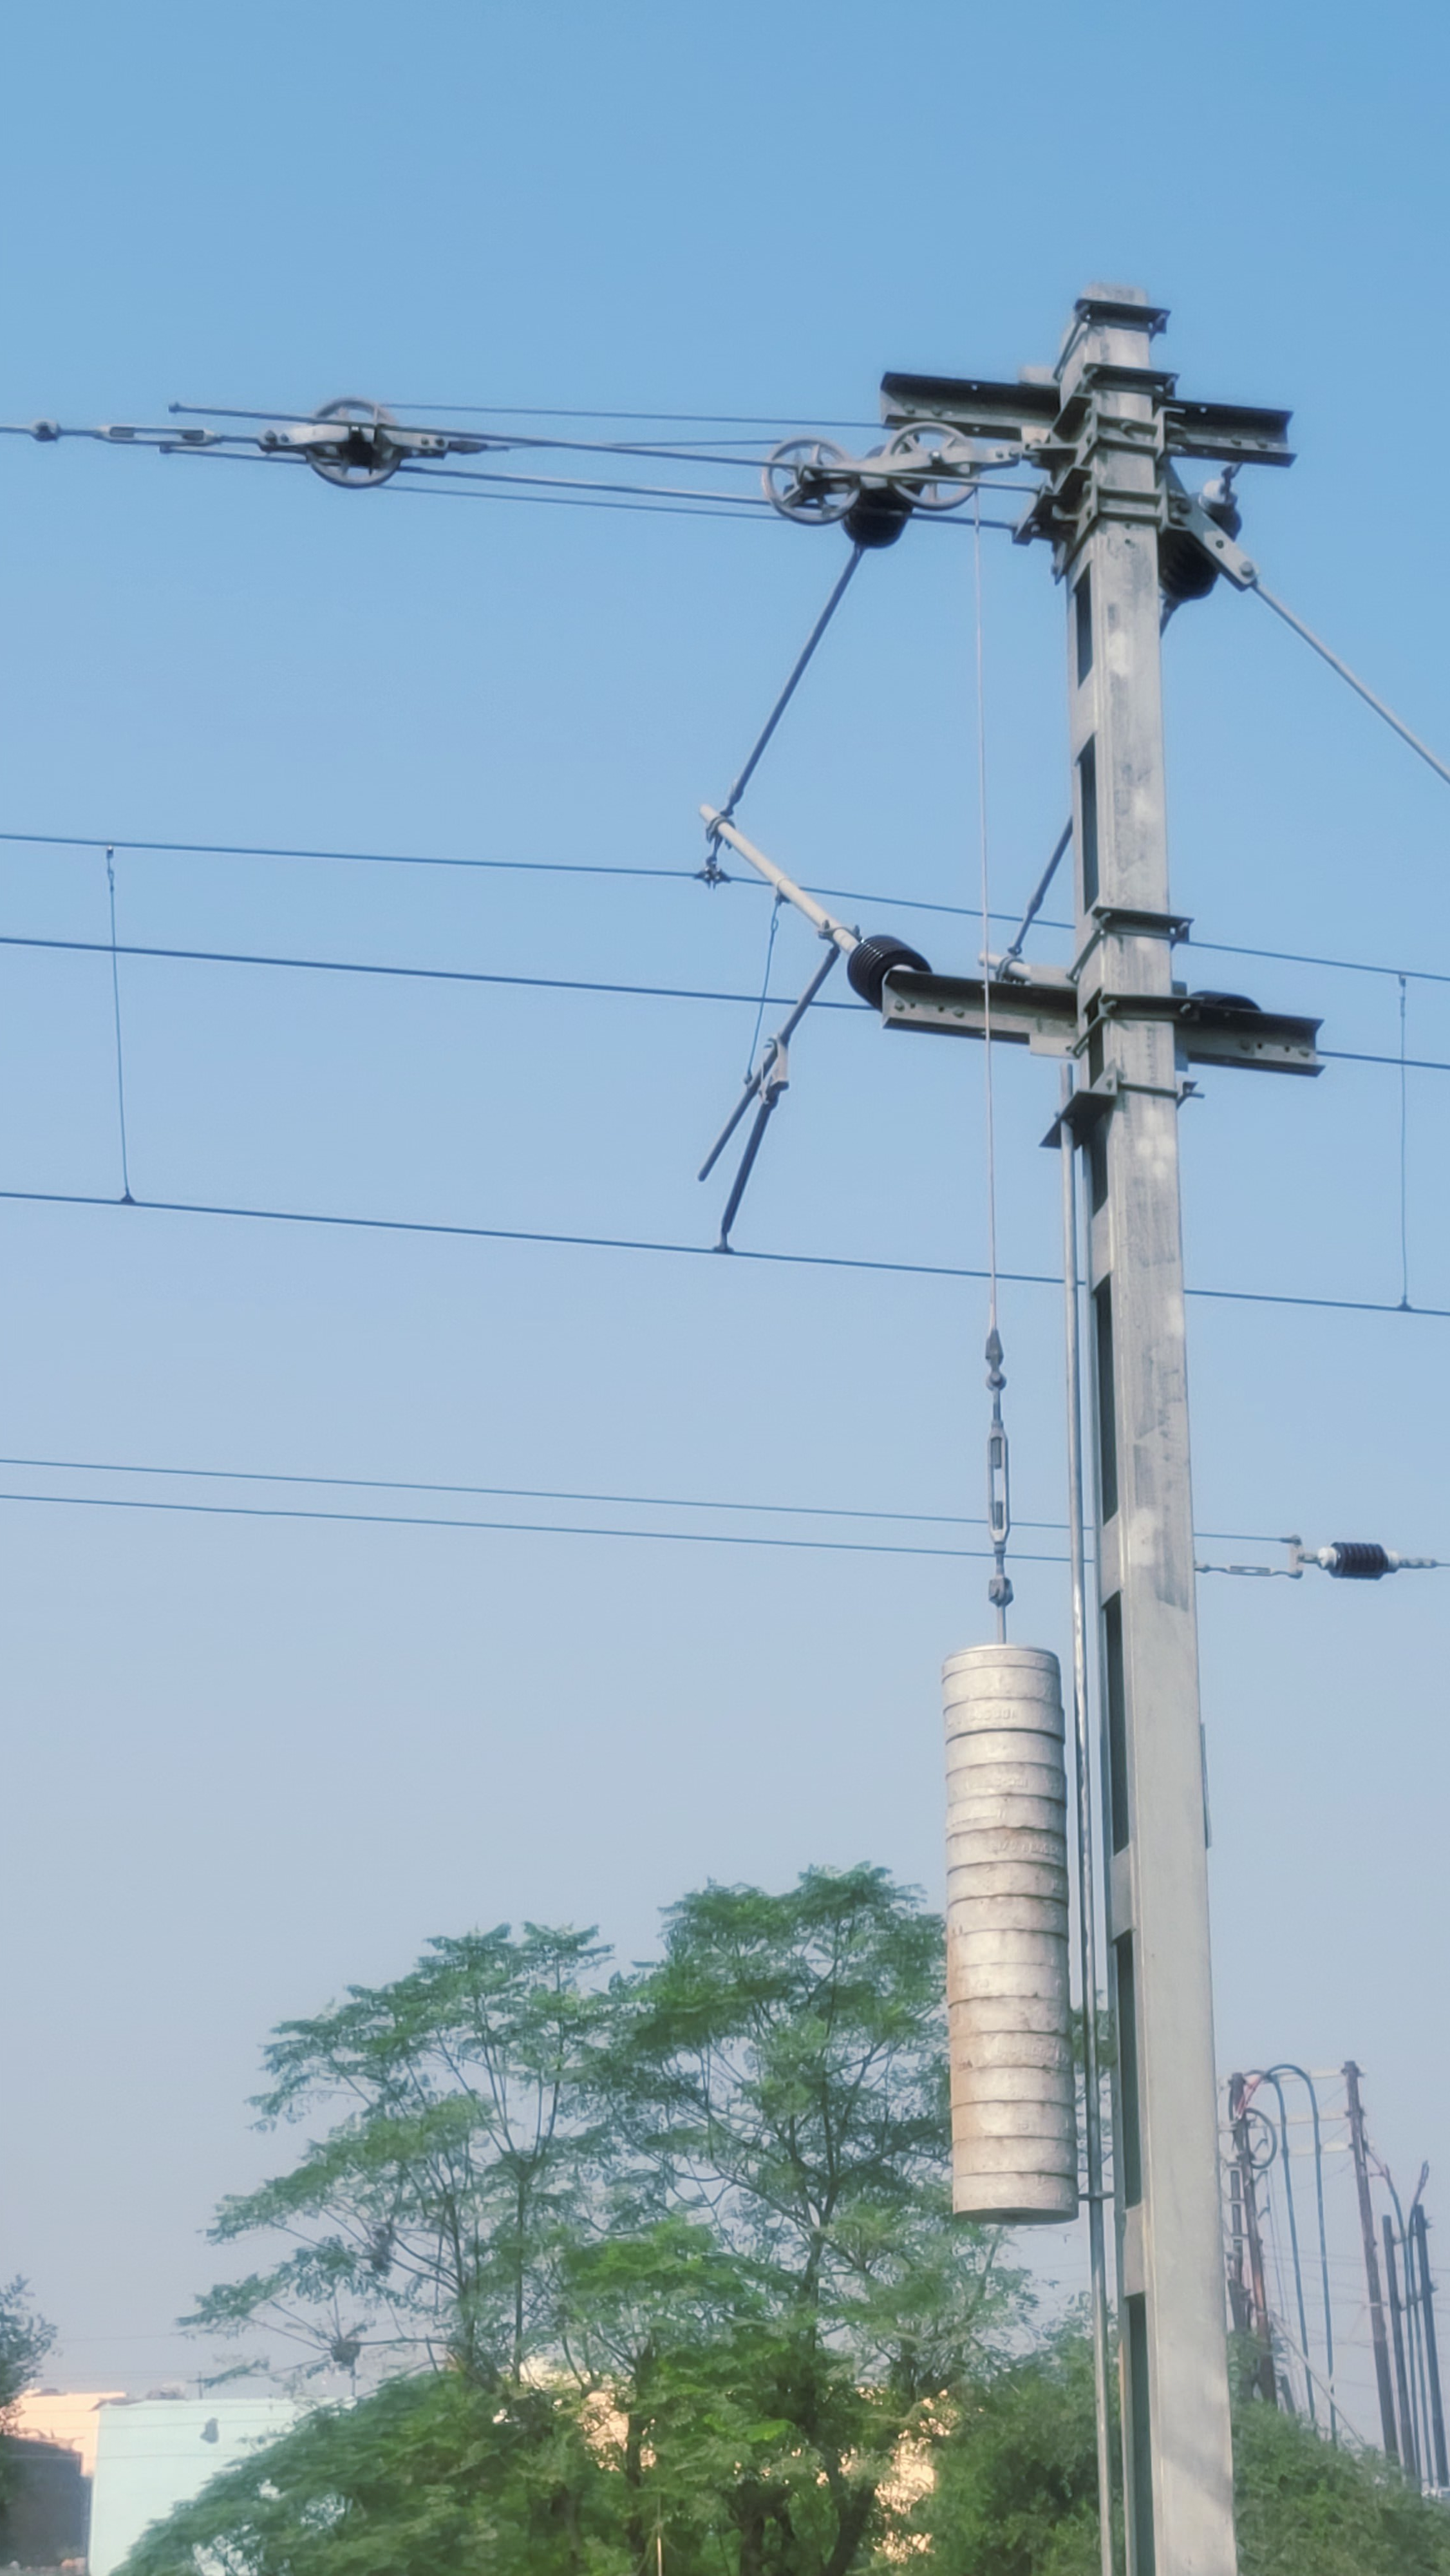counter weight: (893, 1629, 1086, 2247)
pulley: (286, 386, 421, 497), (767, 414, 865, 522), (889, 421, 987, 518)
